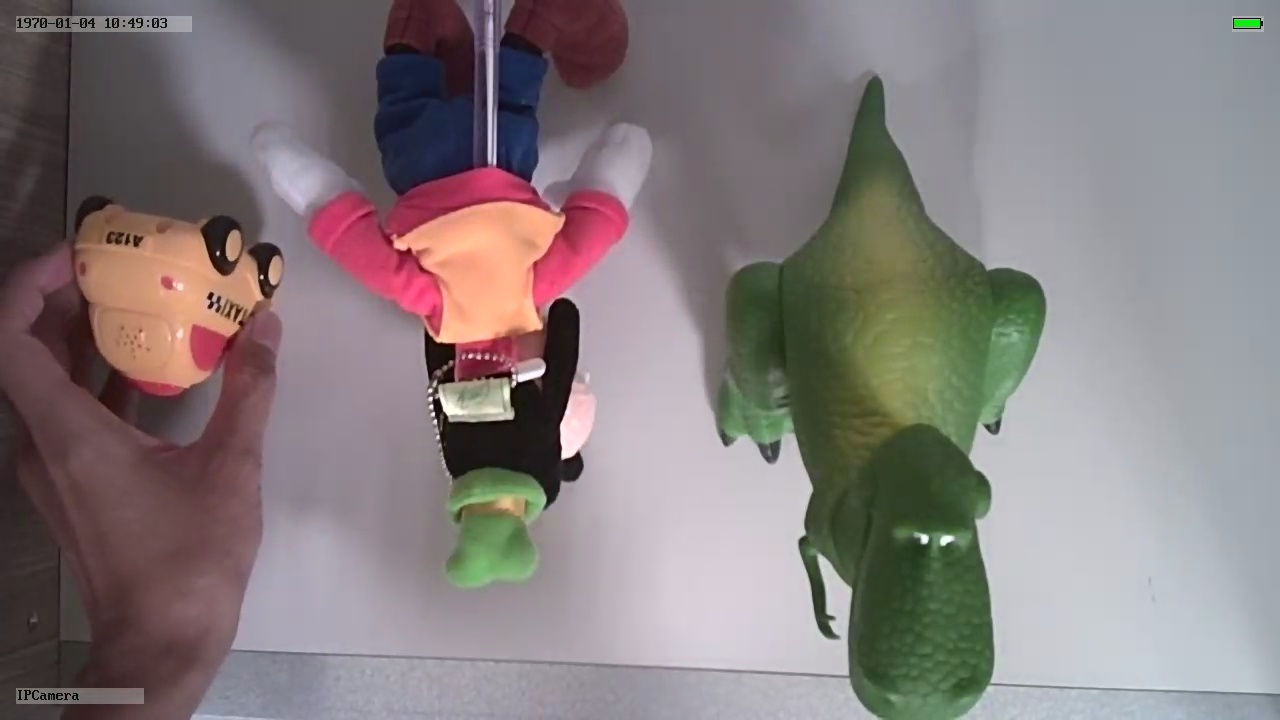goofy: (241, 111, 655, 590)
rex: (713, 160, 1048, 720)
